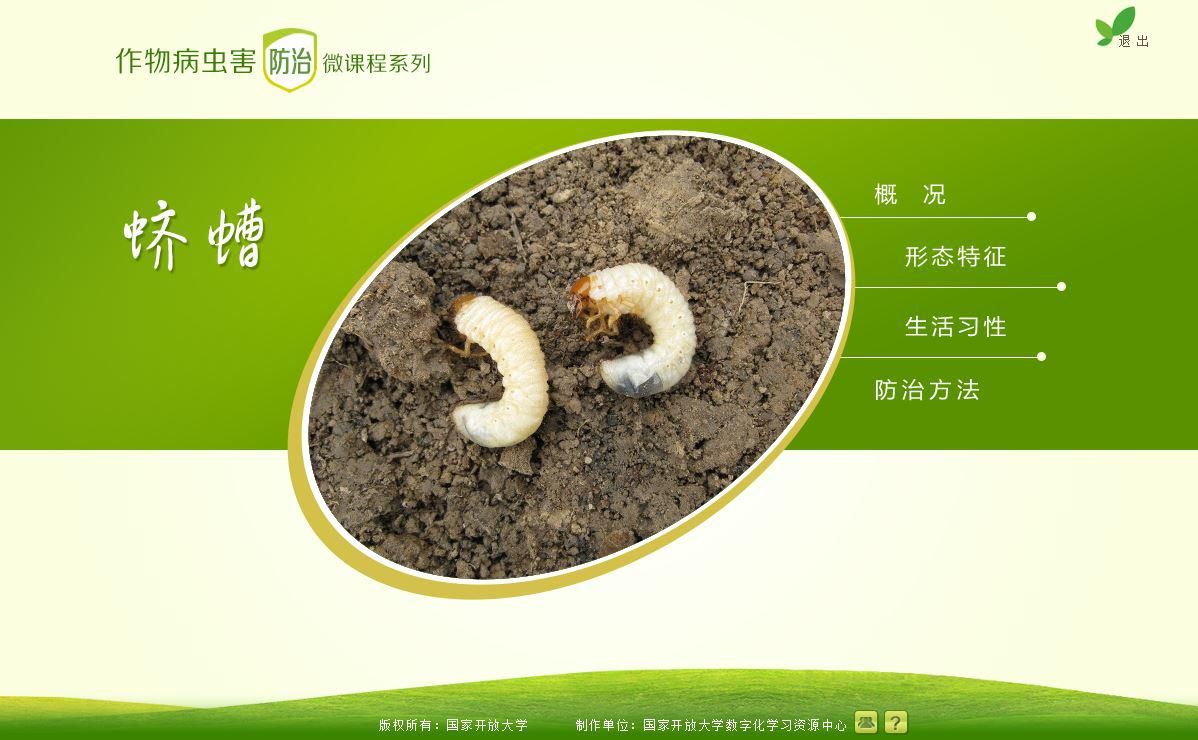grub: (430, 282, 558, 462)
